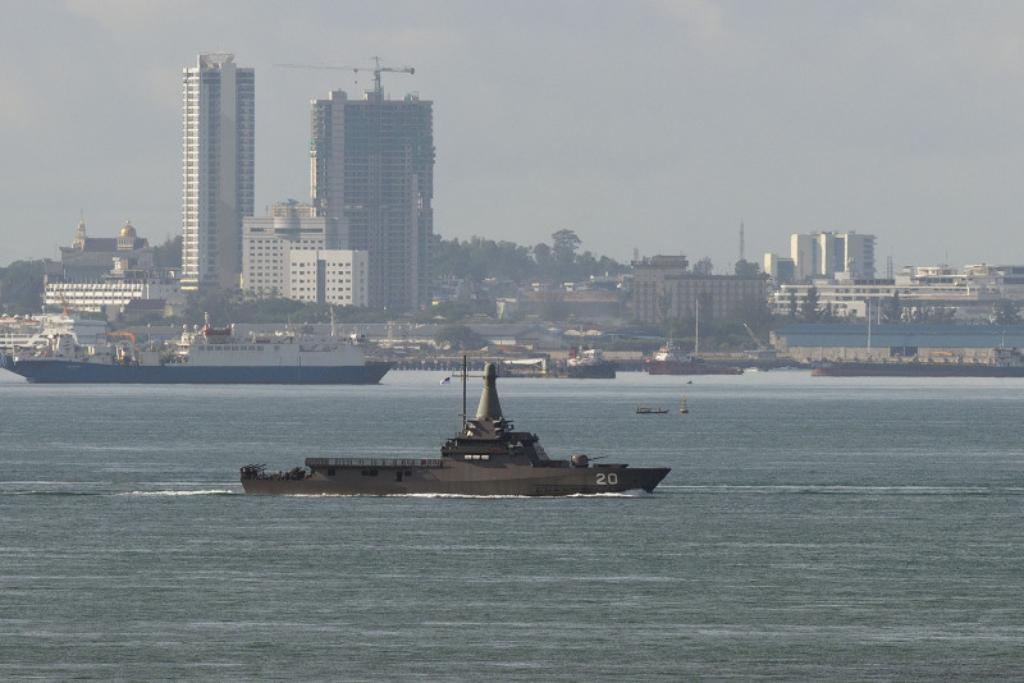Warship: (234, 357, 670, 502)
